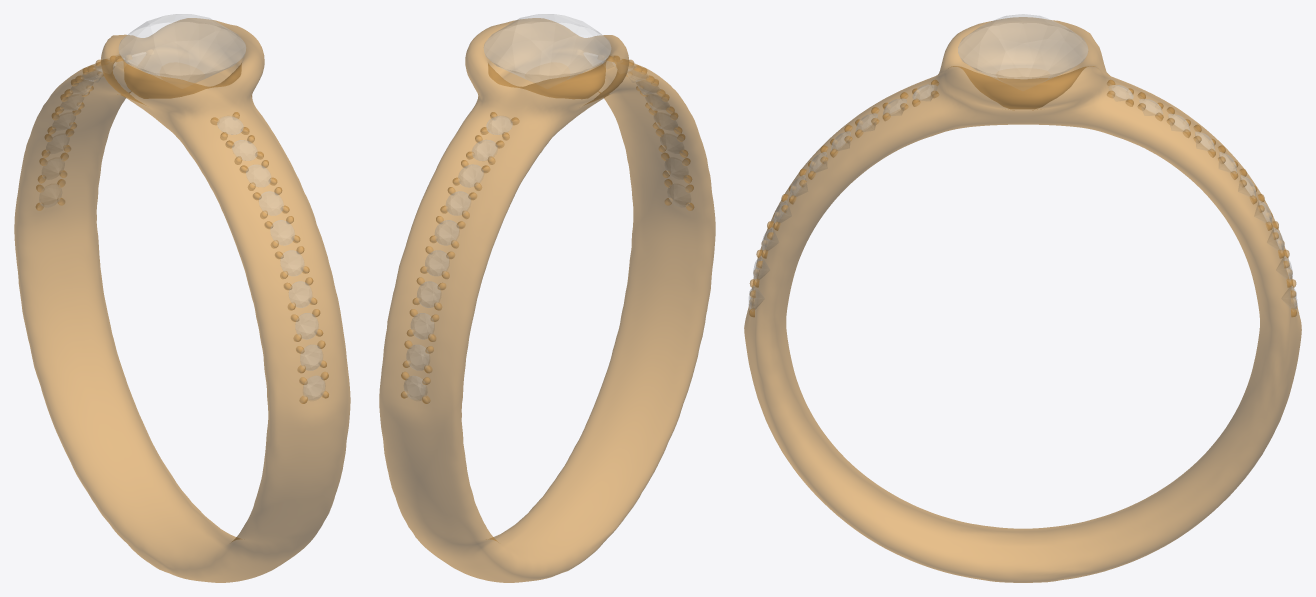
The picture shows the model from 3 angles, left to right: view 1: azimuth 30°, elevation 25°; view 2: azimuth 150°, elevation 25°; view 3: azimuth 270°, elevation 25°; orthographic projection. The views are drawn at different scales.
Visible parts, largest first — view 1: VR005S-BD; view 2: VR005S-BD; view 3: VR005S-BD.
Part boxes in pixels (x1,y1,x2,y2): VR005S-BD: [14, 14, 350, 582]; VR005S-BD: [379, 14, 715, 582]; VR005S-BD: [744, 14, 1301, 582].
Bounding box in the file's own units: 0.698 × 2.52 × 2.33.
